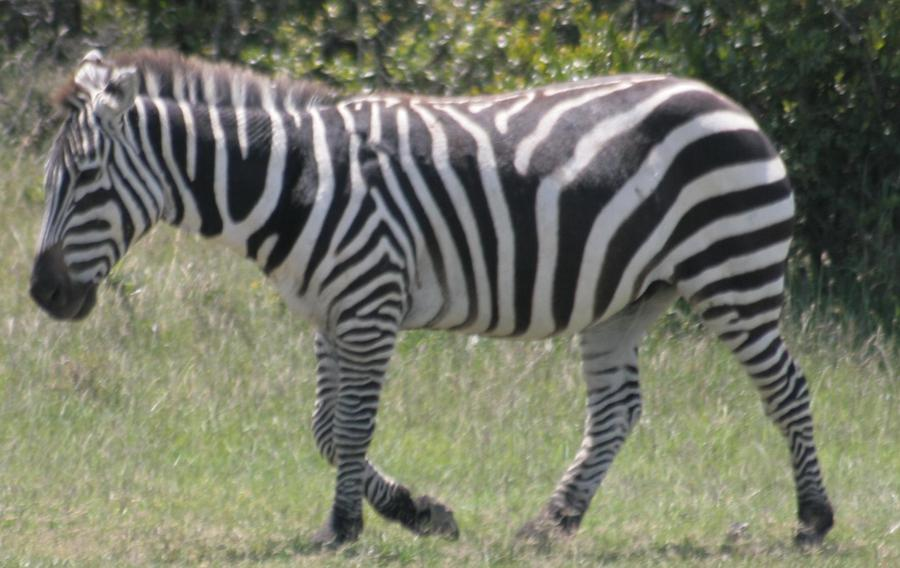zebra_plains: (244, 64, 820, 353)
